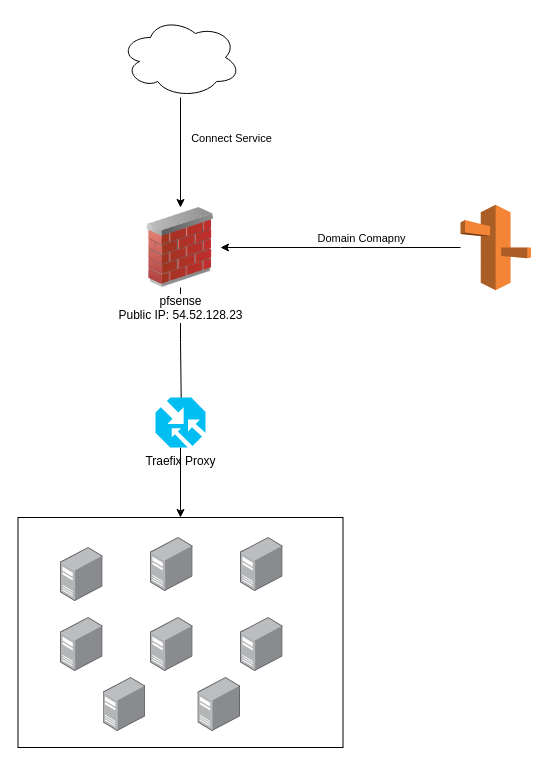
Image size: 548x765. Some labels were removed from this diagram. The centre of each missing label's shape, as x and y in pixels:
Internet: point (180, 57)
Route53: point (495, 247)
